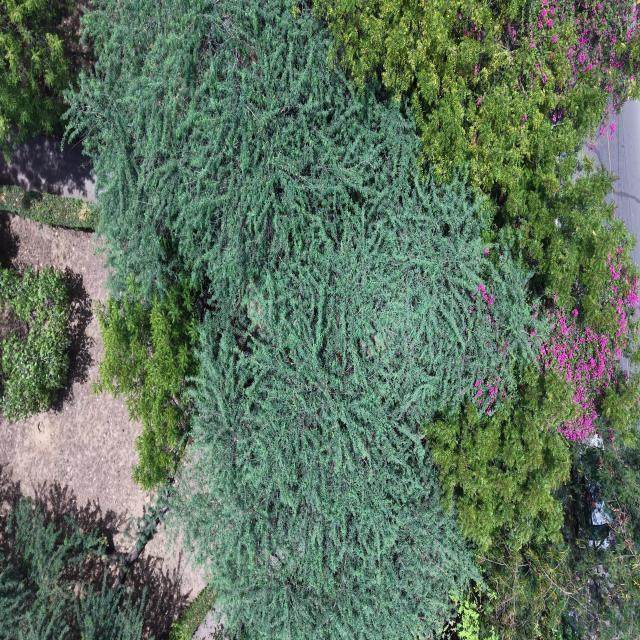DRY_AREA: (0, 212, 150, 549), (0, 136, 95, 201)
VEGETATION_TREE: (66, 0, 639, 639), (72, 2, 537, 637), (316, 0, 638, 638), (70, 4, 535, 407), (315, 0, 639, 334), (427, 173, 638, 638), (428, 173, 637, 549), (314, 0, 639, 219), (441, 422, 639, 639), (472, 435, 639, 639), (427, 368, 574, 552), (516, 158, 636, 343), (94, 277, 197, 489), (0, 498, 144, 639), (539, 273, 637, 440), (565, 438, 639, 638), (0, 0, 88, 157), (469, 538, 588, 639), (0, 267, 69, 419), (106, 482, 172, 586), (0, 186, 98, 230), (441, 593, 497, 639), (169, 587, 216, 639)
